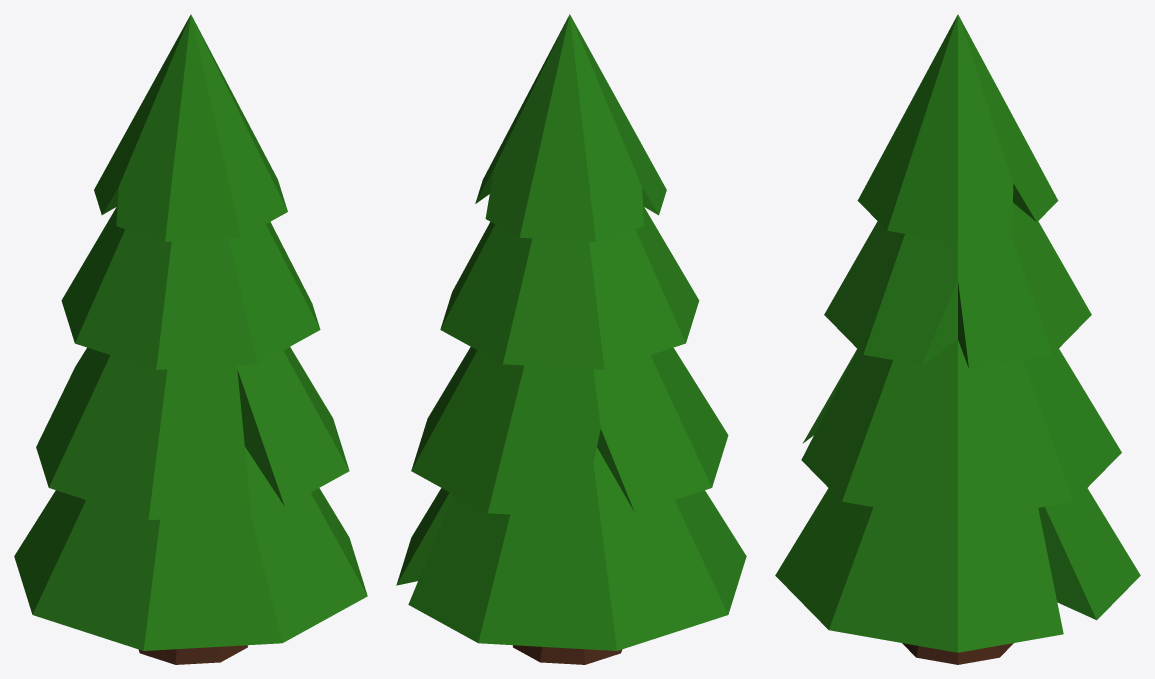
File: TREE_001.fbx
3 renders of one model, left to right at view 1: azimuth 30°, elevation 25°; view 2: azimuth 150°, elevation 25°; view 3: azimuth 270°, elevation 25°, orthographic.
Parts seen in each view (by area): view 1: Circle.002; view 2: Circle.002; view 3: Circle.002.
Boxes of the visible parts, x1,y1,x2,y2 form: Circle.002: [14, 14, 367, 664]; Circle.002: [396, 14, 746, 664]; Circle.002: [775, 14, 1140, 664].
Bounding box in the file's own units: 218 × 413 × 218.
